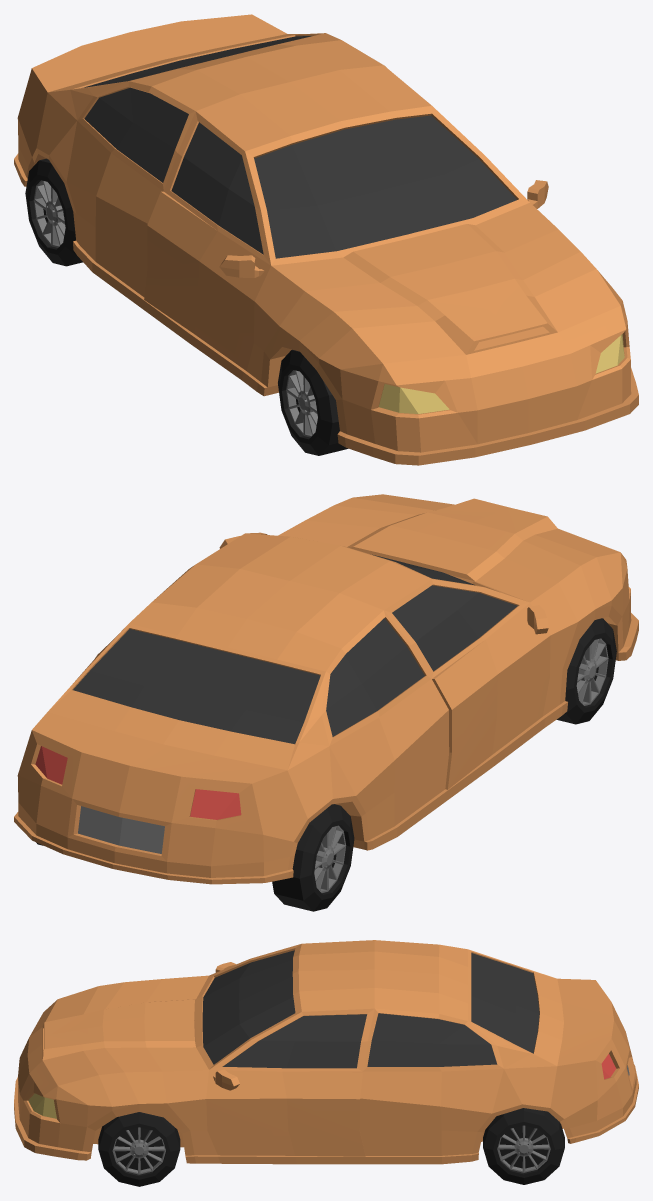
Rendered from q.sports_car.glb.
3 renders of one model, top to bottom at view 1: azimuth 30°, elevation 25°; view 2: azimuth 150°, elevation 25°; view 3: azimuth 270°, elevation 25°, orthographic. The views are drawn at different scales.
Parts seen in each view (by area): view 1: SportsCar, SportsCar_FrontRightWheel, SportsCar_BackWheels; view 2: SportsCar, SportsCar_BackWheels, SportsCar_FrontRightWheel; view 3: SportsCar, SportsCar_BackWheels, SportsCar_FrontLeftWheel.
Part boxes in pixels (left/top/right/bottom): SportsCar: left=14, top=14, right=638, bottom=465; SportsCar_FrontRightWheel: left=278, top=349, right=348, bottom=455; SportsCar_BackWheels: left=25, top=158, right=82, bottom=266; SportsCar: left=14, top=494, right=638, bottom=884; SportsCar_BackWheels: left=36, top=804, right=354, bottom=911; SportsCar_FrontRightWheel: left=556, top=618, right=616, bottom=724; SportsCar: left=14, top=940, right=638, bottom=1164; SportsCar_BackWheels: left=483, top=1108, right=564, bottom=1184; SportsCar_FrontLeftWheel: left=98, top=1112, right=180, bottom=1186.
Bounding box in the file's own units: 1.8 × 1.16 × 3.97.
